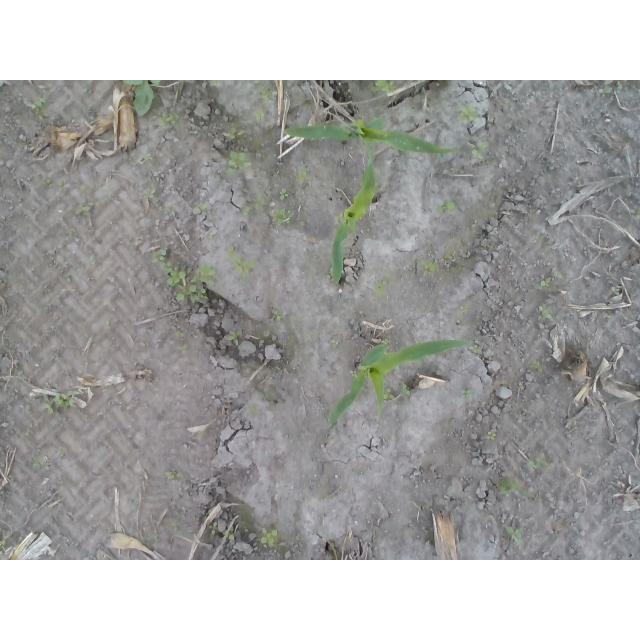Maize: (327, 338, 473, 423), (329, 141, 376, 285), (286, 120, 458, 157)
Weeds: (151, 247, 217, 305), (122, 80, 162, 117), (225, 244, 259, 276), (226, 151, 255, 178), (41, 393, 75, 415), (495, 479, 523, 497), (503, 525, 525, 545), (31, 99, 50, 122), (371, 273, 389, 297), (598, 80, 623, 97), (255, 526, 278, 544), (535, 303, 555, 321), (459, 103, 478, 121), (227, 126, 247, 143), (371, 80, 397, 93), (225, 328, 243, 346), (256, 86, 274, 103), (160, 111, 179, 127), (436, 199, 456, 214), (272, 208, 289, 225), (471, 143, 487, 161), (527, 453, 545, 469), (78, 200, 95, 216), (536, 274, 553, 289), (164, 470, 185, 482), (422, 259, 439, 273), (34, 176, 51, 189), (271, 308, 286, 322), (530, 359, 545, 373), (255, 191, 266, 209), (496, 98, 513, 109), (398, 384, 412, 397), (382, 388, 396, 401), (192, 203, 209, 213), (459, 388, 473, 400), (206, 521, 218, 535), (31, 457, 42, 472), (144, 188, 157, 200), (296, 169, 309, 181), (325, 339, 339, 350), (629, 208, 640, 220), (256, 111, 268, 122), (225, 528, 235, 540), (241, 206, 254, 215), (246, 405, 259, 414), (336, 212, 345, 225), (24, 427, 34, 437), (487, 431, 497, 441), (446, 247, 455, 258), (143, 152, 154, 161), (279, 191, 288, 202), (469, 345, 481, 353), (176, 329, 185, 339), (179, 344, 189, 353), (535, 232, 545, 241), (209, 80, 224, 86), (103, 319, 111, 329), (382, 338, 393, 345), (350, 370, 358, 378), (0, 538, 4, 548)
